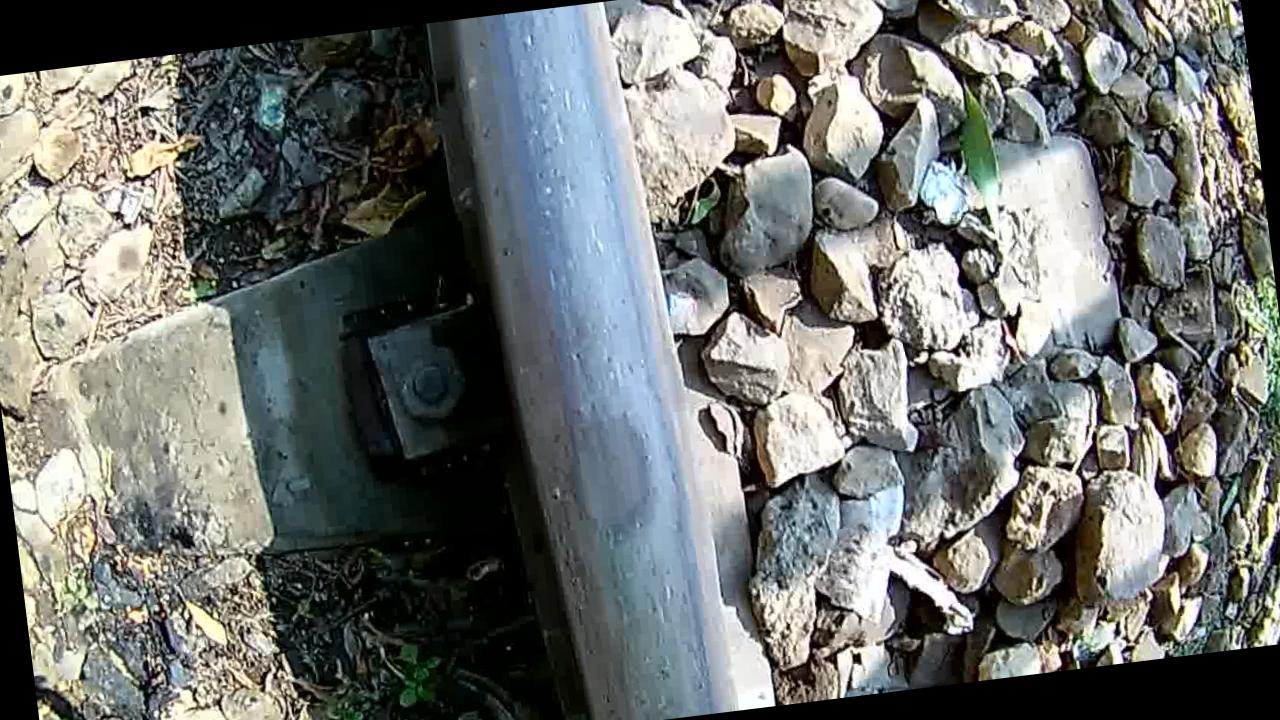bolt_missing: (448, 18, 709, 720)
